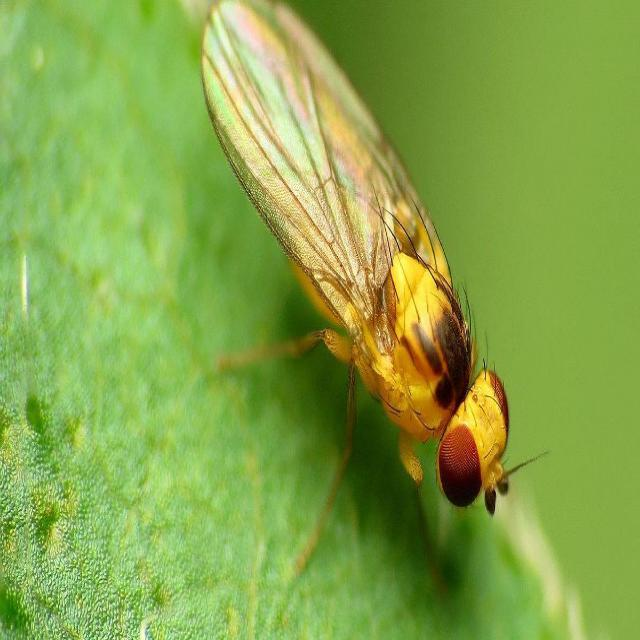Serpentine leafminer: (197, 3, 550, 588)
